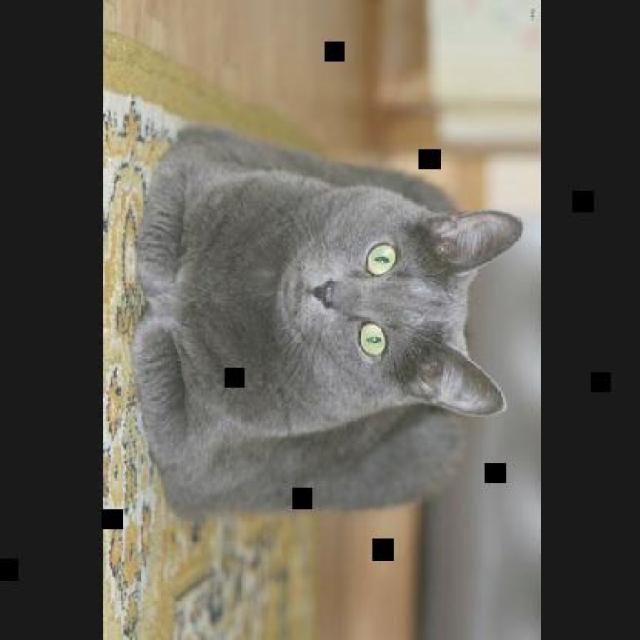unauthorized: (129, 122, 522, 520)
